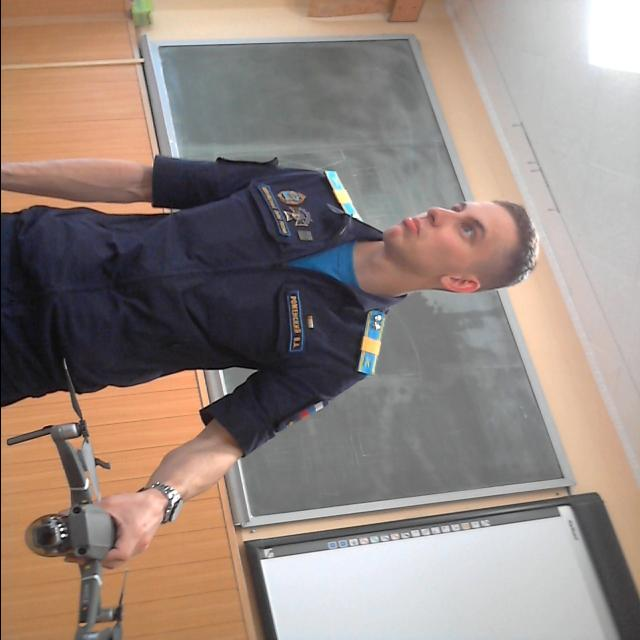drone: (0, 354, 136, 640)
